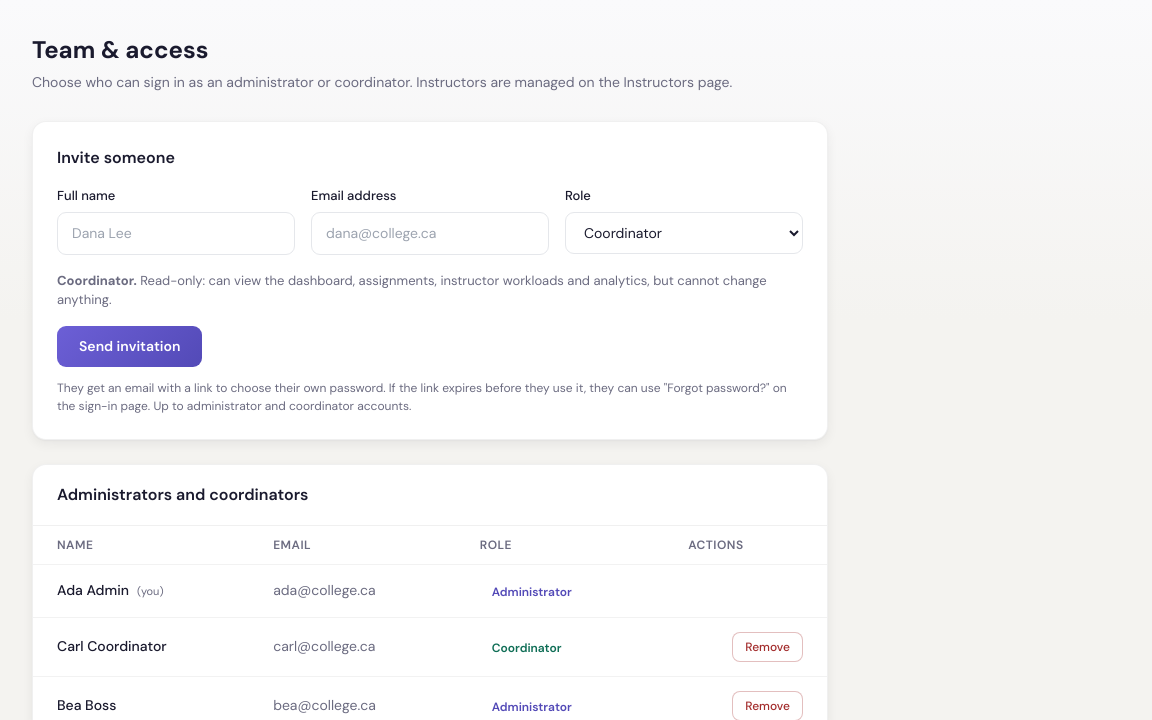
AdminTeam › removing › asks for confirmation first and does nothing if cancelled
Expected: the text "Carl Coordinator" is shown, [33,617,249,676]
Click the button "Remove" in the row of "Carl Coordinator" at (768, 646), box [732,632,803,662]
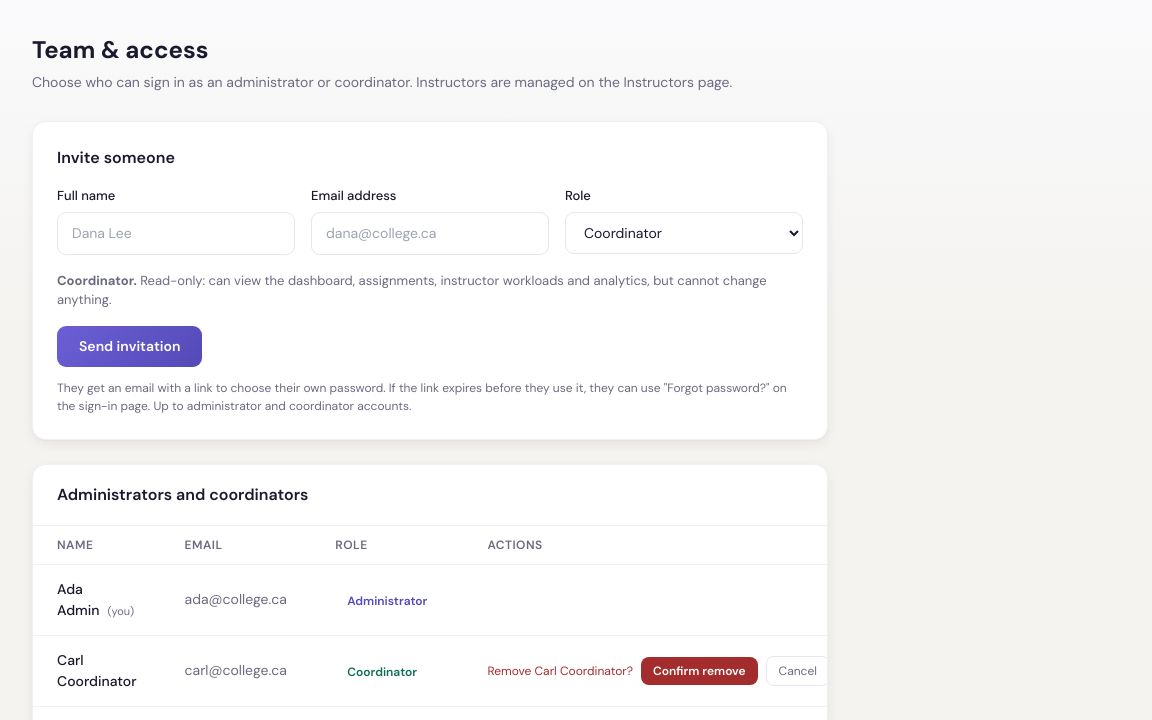
Now the text "Remove Carl Coordinator?" is shown, box [487,662,633,680]
Click the button "Cancel" at (798, 670), box [766,656,830,686]
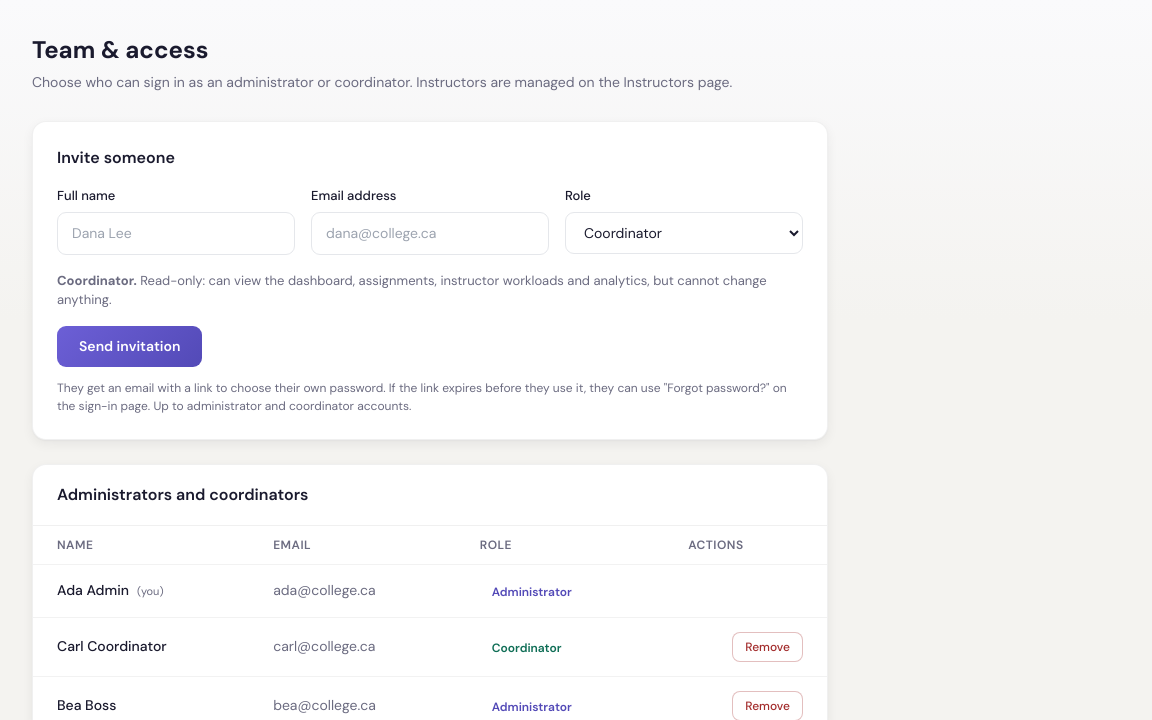
Now the text "Remove Carl" is gone
